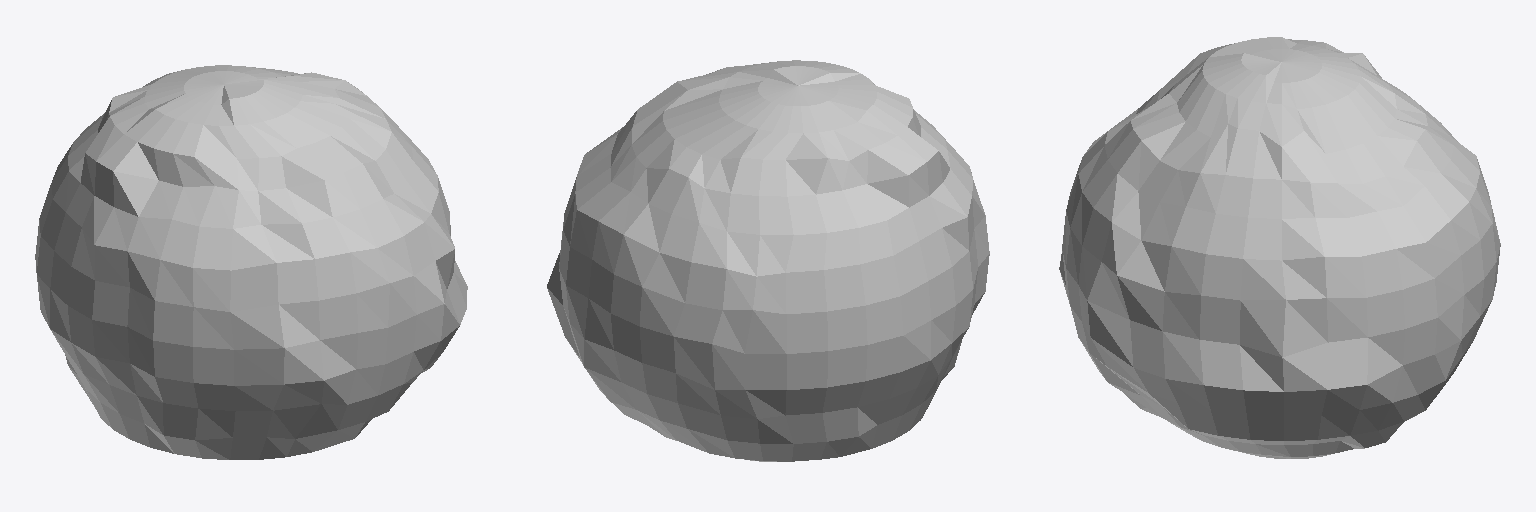
File: rock.obj
3 views of the same model, side by side, from view 1: azimuth 30°, elevation 25°; view 2: azimuth 150°, elevation 25°; view 3: azimuth 270°, elevation 25° (orthographic).
Visible parts, largest first — view 1: Sphere; view 2: Sphere; view 3: Sphere.
Boxes of the visible parts, box(x1,y1,x2,y2) form: Sphere: box(35, 65, 467, 459); Sphere: box(547, 60, 989, 461); Sphere: box(1059, 37, 1500, 458).
Size of the model in its own units: 2.1 by 1.93 by 2.13.